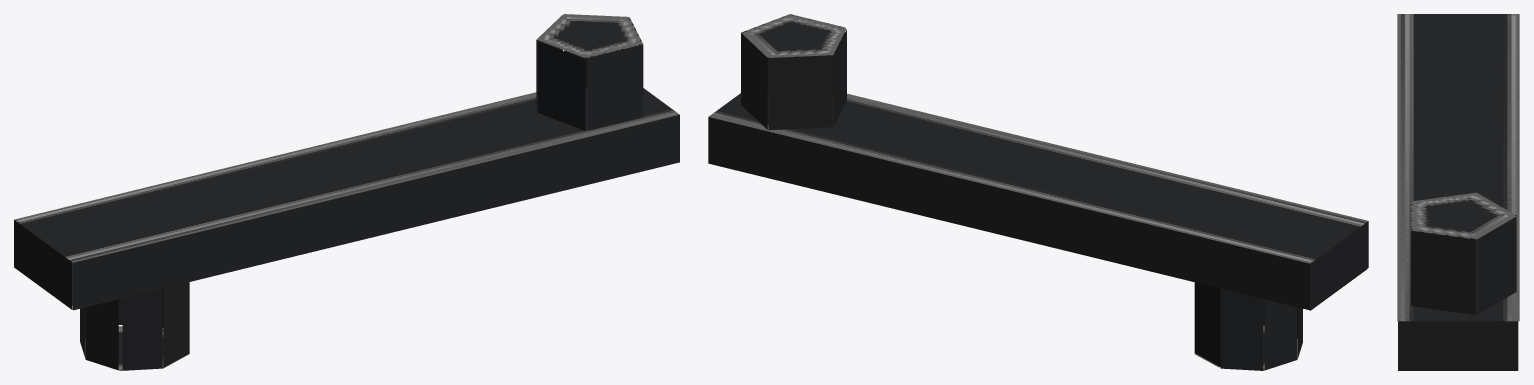
Rendered from CracnkHandler1.fbx.
3 renders of one model, left to right at view 1: azimuth 30°, elevation 25°; view 2: azimuth 150°, elevation 25°; view 3: azimuth 270°, elevation 25°, orthographic. The views are drawn at different scales.
Visible parts, largest first — view 1: jawaadalahporos; view 2: jawaadalahporos; view 3: jawaadalahporos.
Part boxes in pixels (x1,y1,x2,y2): jawaadalahporos: (14, 14, 679, 370); jawaadalahporos: (708, 14, 1368, 370); jawaadalahporos: (1397, 14, 1519, 370).
Bounding box in the file's own units: 124 × 39.27 × 20.83.
